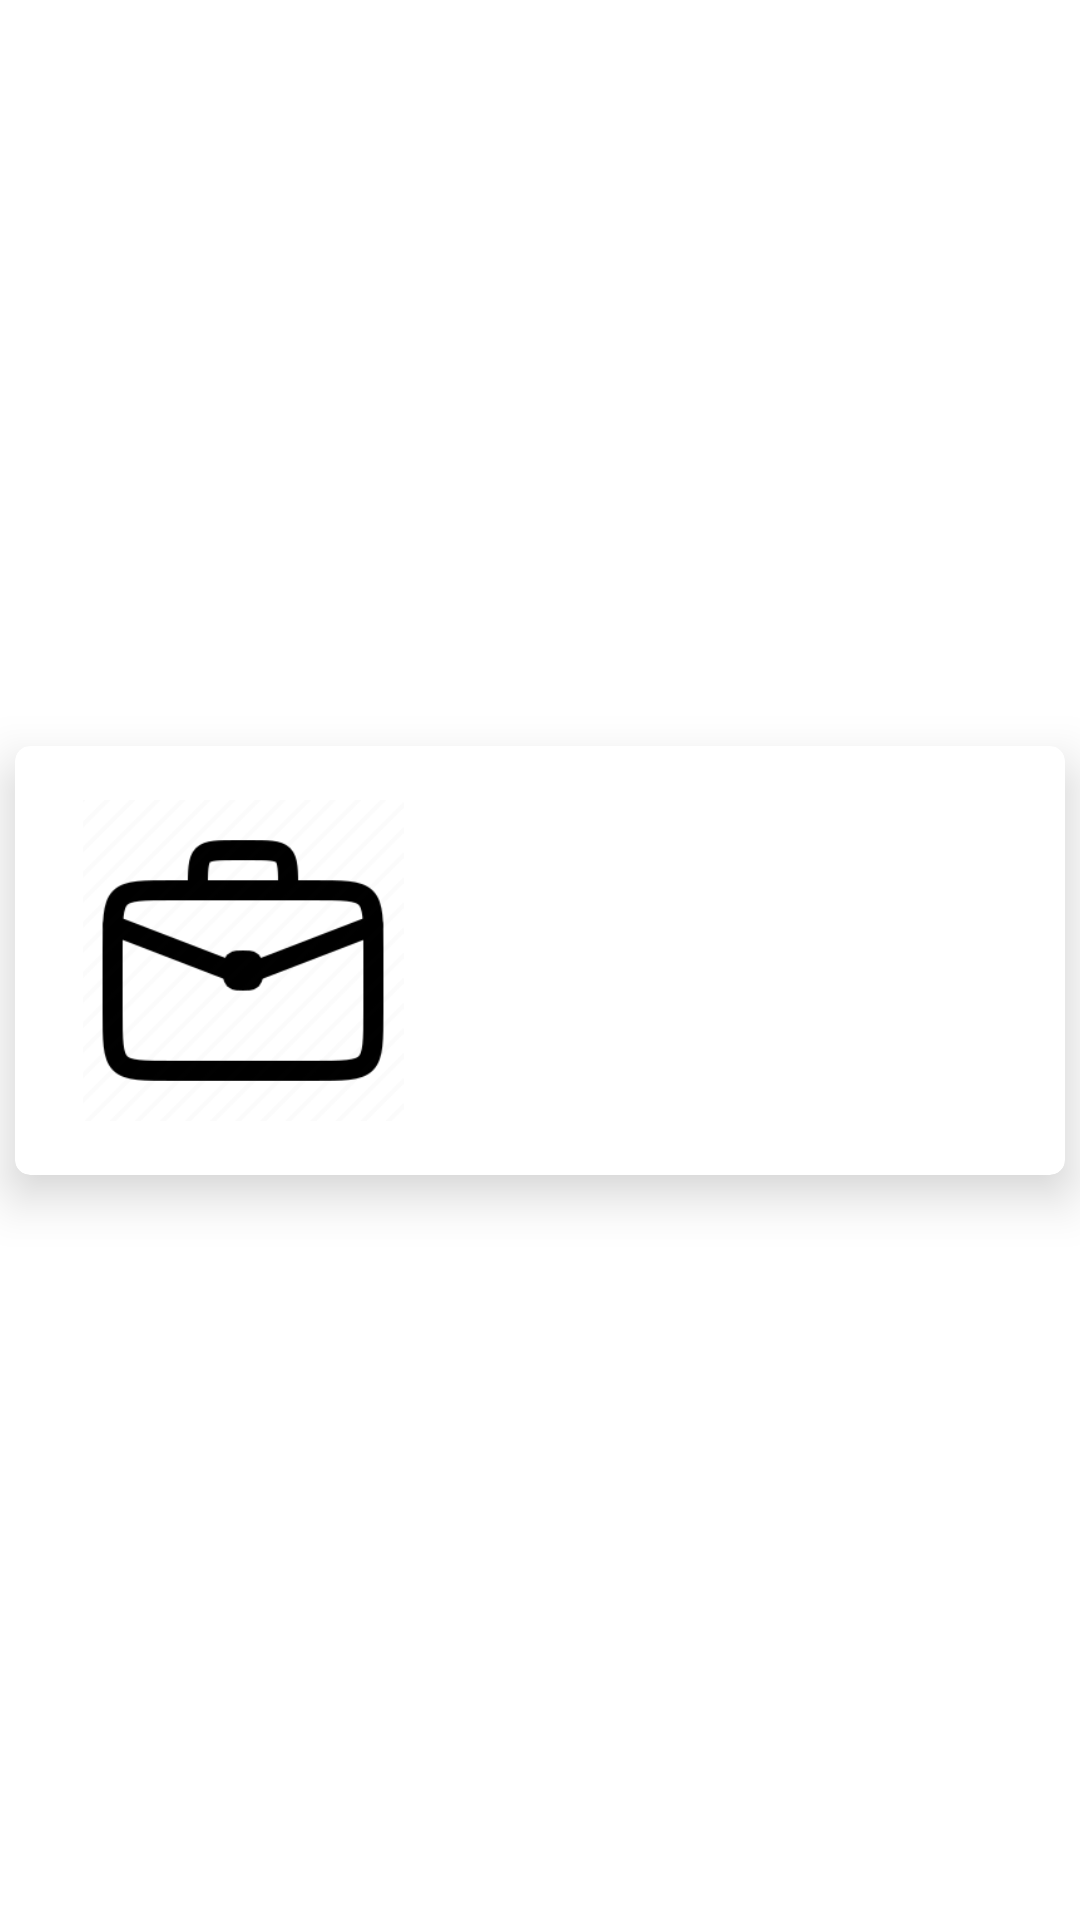

Where icons sit on this 1080px x 1920px app screen, as (x1, y1, x2, y2):
work: (102, 840, 384, 1081)
